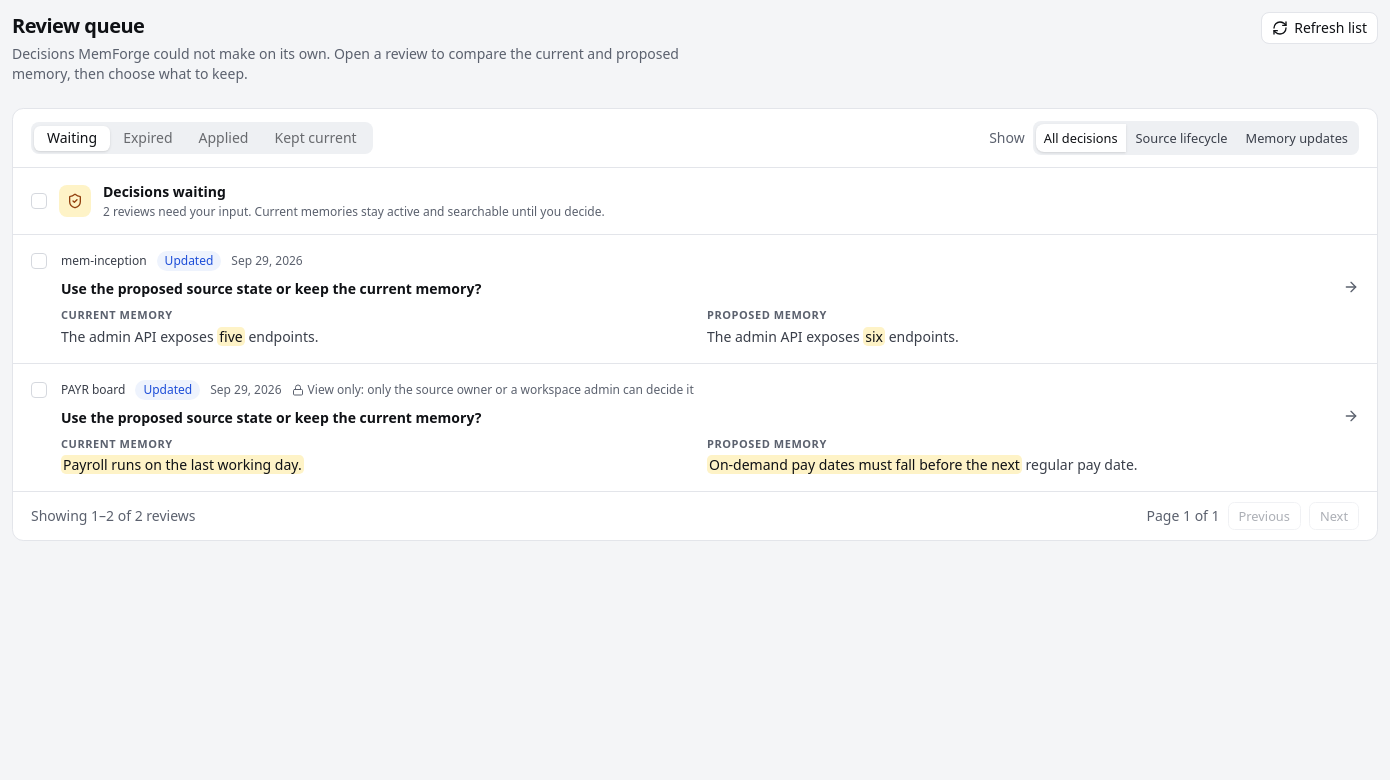
Test case: a review the caller cannot decide cannot be picked for a bulk decision, and says why
Click the checkbox named "Select every review on this page that you can decide". click: {"x": 39, "y": 201}
box: [31,193,47,209]
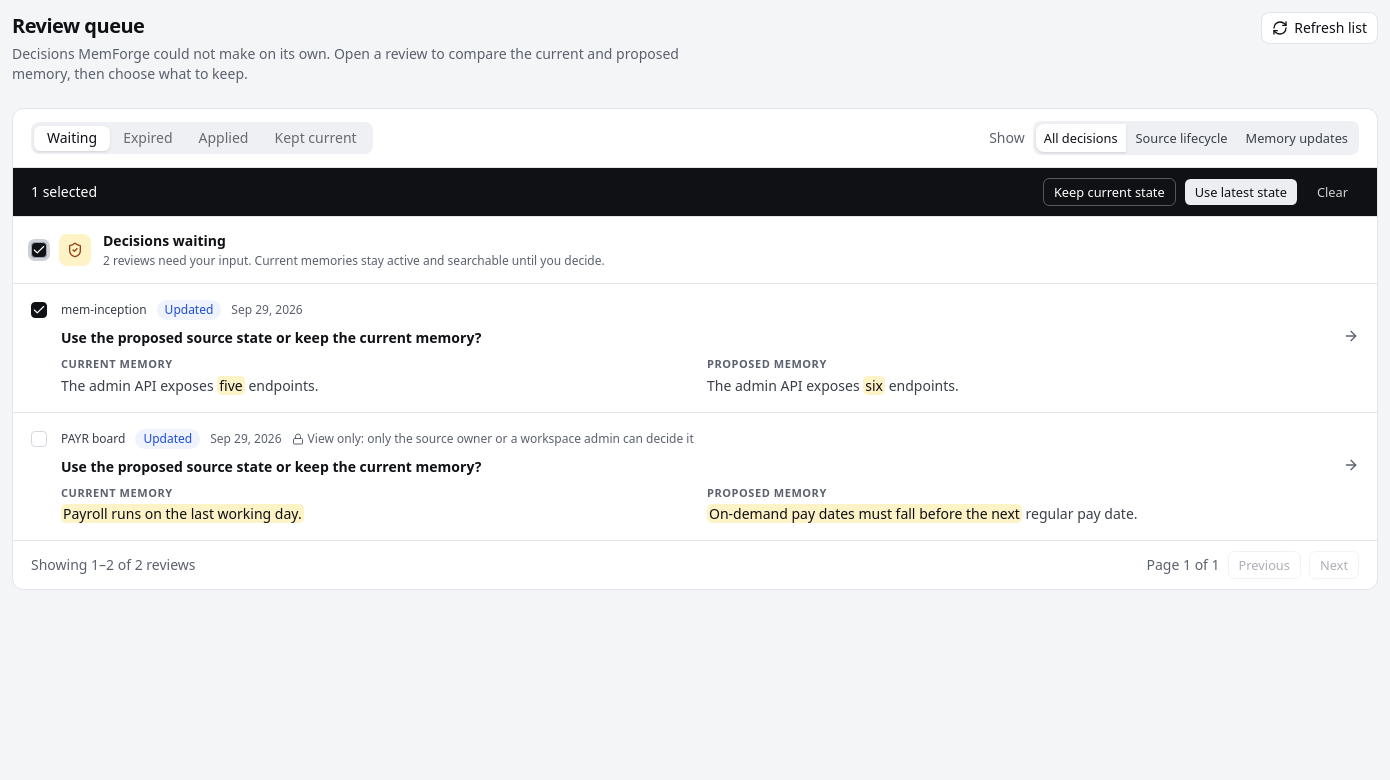
Check: the text "1 selected" is shown, box [31,182,97,202]
